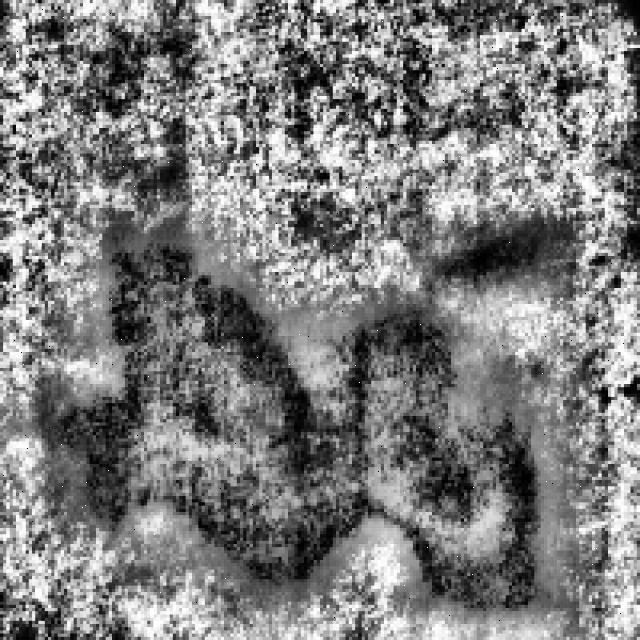Scratches: (45, 214, 336, 589), (317, 297, 547, 608)
